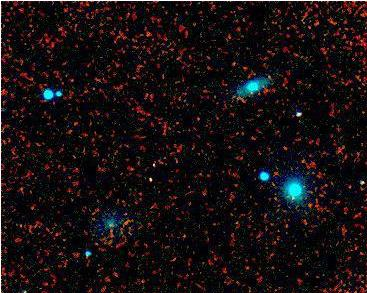star: (133, 152, 163, 182)
